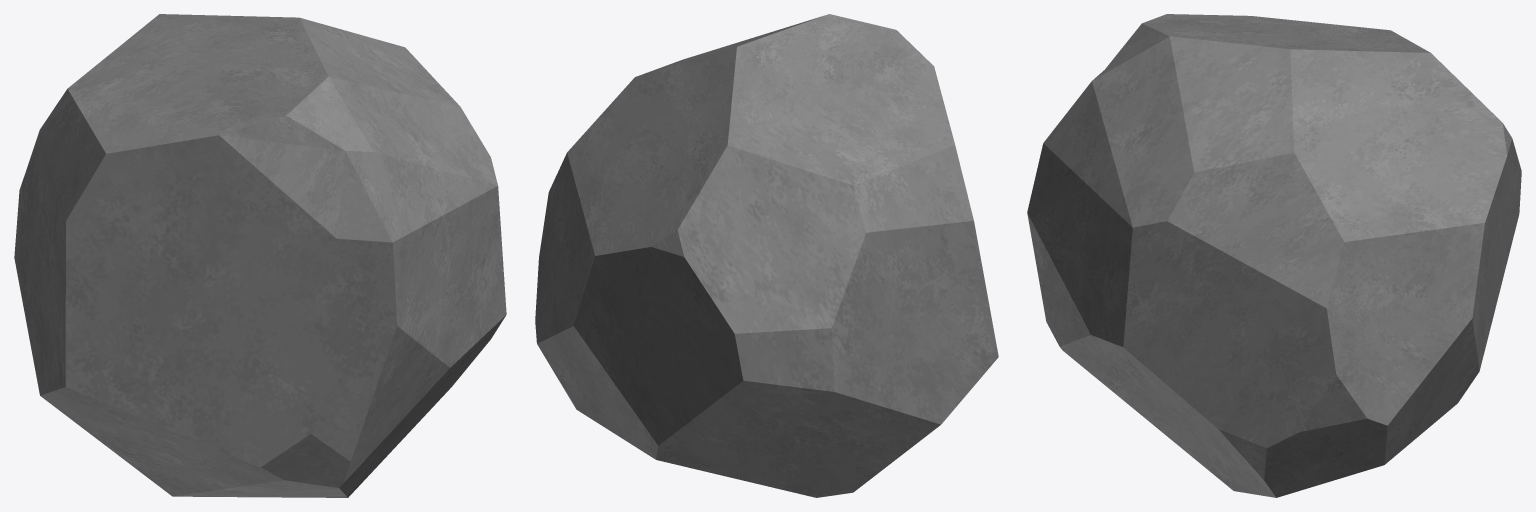
The model's file is Rock_9.fbx.
3 views of the same model, side by side, from view 1: azimuth 30°, elevation 25°; view 2: azimuth 150°, elevation 25°; view 3: azimuth 270°, elevation 25° (orthographic). The views are drawn at different scales.
Visible parts, largest first — view 1: Sphere.017; view 2: Sphere.017; view 3: Sphere.017.
Boxes of the visible parts, x1,y1,x2,y2 form: Sphere.017: (14, 14, 506, 497); Sphere.017: (535, 14, 998, 497); Sphere.017: (1027, 14, 1521, 497).
Bounding box in the file's own units: 165 × 163 × 169.
